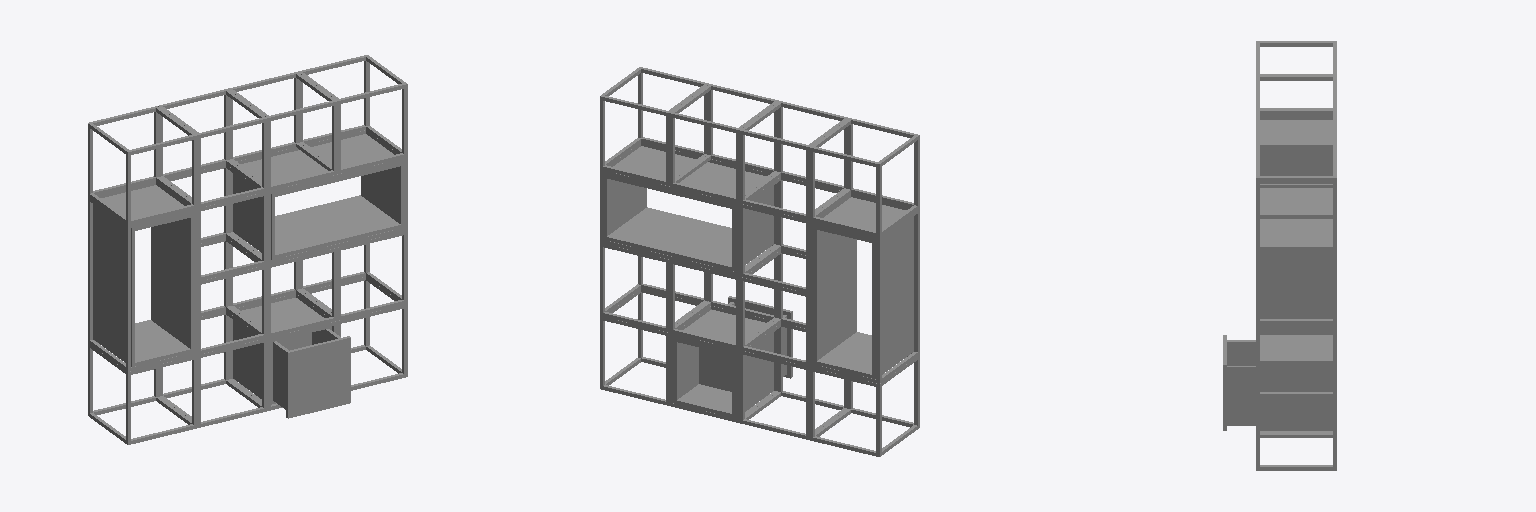
File: pieces3.obj
The picture shows the model from 3 angles: view 1: azimuth 30°, elevation 25°; view 2: azimuth 150°, elevation 25°; view 3: azimuth 270°, elevation 25°; orthographic projection.
Visible parts, largest first — view 1: c1Bake_Cube.024, c2Bake_Cube, dBake_Cube.032, B10_Cube.047, B13_Cube.050, B11_Cube.048, B12_Cube.049, B4_Cube.055, c3Bake_Cube.028, b0_Cube.027, b1_Cube.061, B9_Cube.052 (+6 smaller); view 2: c1Bake_Cube.024, c2Bake_Cube, c3Bake_Cube.028, B10_Cube.047, B4_Cube.055, B13_Cube.050, B12_Cube.049, B11_Cube.048, b0_Cube.027, b1_Cube.061, B9_Cube.052, B6_Cube.057 (+6 smaller); view 3: c2Bake_Cube, c3Bake_Cube.028, c1Bake_Cube.024, dBake_Cube.032, B13_Cube.050, b3_Cube.059, B7_Cube.058, B9_Cube.052, B12_Cube.049, B11_Cube.048, B10_Cube.047.
Part boxes in pixels (left/top/right/bottom): c1Bake_Cube.024: left=93, top=185, right=193, bottom=366; c2Bake_Cube: left=233, top=134, right=403, bottom=259; dBake_Cube.032: left=273, top=329, right=350, bottom=418; B10_Cube.047: left=88, top=106, right=197, bottom=224; B13_Cube.050: left=298, top=55, right=407, bottom=173; B11_Cube.048: left=158, top=89, right=267, bottom=207; B12_Cube.049: left=228, top=72, right=337, bottom=190; B4_Cube.055: left=88, top=181, right=197, bottom=371; c3Bake_Cube.028: left=233, top=298, right=331, bottom=404; b0_Cube.027: left=88, top=342, right=197, bottom=444; b1_Cube.061: left=160, top=311, right=267, bottom=427; B9_Cube.052: left=230, top=130, right=407, bottom=264; c1Bake_Cube.024: left=813, top=197, right=913, bottom=378; c2Bake_Cube: left=603, top=146, right=773, bottom=271; c3Bake_Cube.028: left=673, top=310, right=773, bottom=418; B10_Cube.047: left=810, top=118, right=919, bottom=237; B4_Cube.055: left=810, top=193, right=919, bottom=383; B13_Cube.050: left=600, top=67, right=708, bottom=185; B12_Cube.049: left=670, top=84, right=778, bottom=203; B11_Cube.048: left=740, top=101, right=848, bottom=220; b0_Cube.027: left=810, top=355, right=919, bottom=456; b1_Cube.061: left=740, top=323, right=847, bottom=439; B9_Cube.052: left=600, top=142, right=777, bottom=276; B6_Cube.057: left=670, top=256, right=777, bottom=349; c2Bake_Cube: left=1260, top=188, right=1332, bottom=318; c3Bake_Cube.028: left=1260, top=335, right=1332, bottom=430; c1Bake_Cube.024: left=1260, top=120, right=1332, bottom=175; dBake_Cube.032: left=1223, top=335, right=1255, bottom=430; B13_Cube.050: left=1256, top=144, right=1336, bottom=250; b3_Cube.059: left=1256, top=365, right=1336, bottom=470; B7_Cube.058: left=1256, top=324, right=1336, bottom=397; B9_Cube.052: left=1256, top=184, right=1336, bottom=323; B12_Cube.049: left=1256, top=110, right=1336, bottom=212; B11_Cube.048: left=1256, top=75, right=1336, bottom=149; B10_Cube.047: left=1256, top=41, right=1336, bottom=115.
Bounding box in the file's own units: 4 × 4 × 1.41.